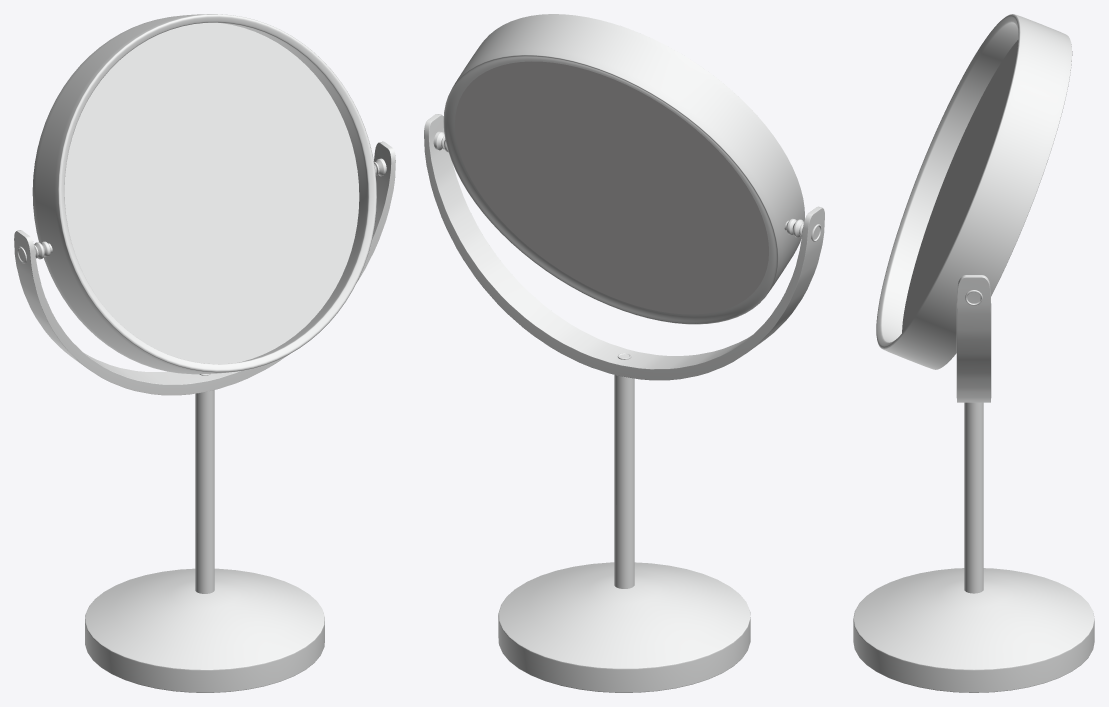
Rendered from MEGA_PACK_Mirror__mirror-69653_frame_silver.glb.
3 views of the same model, side by side, from view 1: azimuth 30°, elevation 25°; view 2: azimuth 150°, elevation 25°; view 3: azimuth 270°, elevation 25° (orthographic). The views are drawn at different scales.
Visible parts, largest first — view 1: mirror-69653_frame_silver; view 2: mirror-69653_frame_silver; view 3: mirror-69653_frame_silver.
Boxes of the visible parts, x1=… form: mirror-69653_frame_silver: x1=14, y1=14, x2=395, y2=692; mirror-69653_frame_silver: x1=424, y1=14, x2=824, y2=692; mirror-69653_frame_silver: x1=853, y1=14, x2=1094, y2=692.
Size of the model in its own units: 0.2122 by 0.3345 by 0.12.
1 material, 1 textured.
